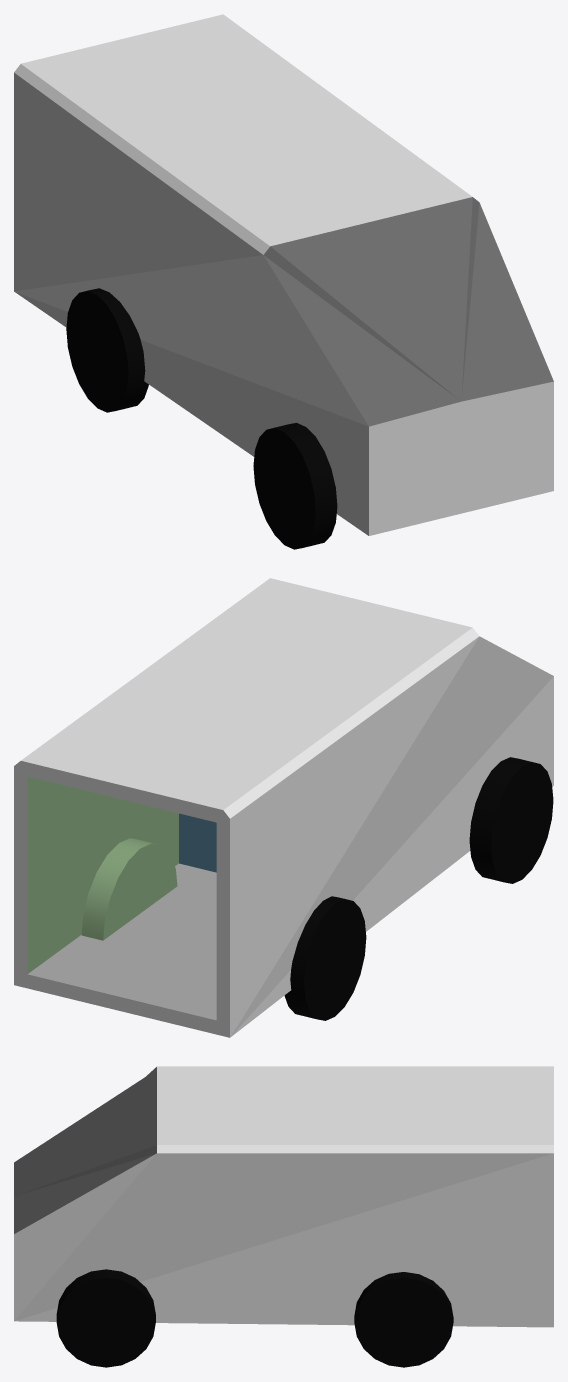
File: Van1.0.fbx
3 views of the same model, one above another, from view 1: azimuth 30°, elevation 25°; view 2: azimuth 150°, elevation 25°; view 3: azimuth 270°, elevation 25° (orthographic). The views are drawn at different scales.
Parts seen in each view (by area): view 1: pCube1, pCylinder2, pCylinder4; view 2: pCube1, pCylinder2, pCylinder4, WheelHub; view 3: pCube1, pCylinder1, pCylinder5.
Boxes of the visible parts, bbox=[...] form: pCube1: bbox=[14, 14, 553, 535]; pCylinder2: bbox=[253, 423, 337, 549]; pCylinder4: bbox=[66, 288, 148, 412]; pCube1: bbox=[14, 578, 553, 1037]; pCylinder2: bbox=[469, 757, 553, 883]; pCylinder4: bbox=[284, 896, 366, 1020]; WheelHub: bbox=[81, 838, 177, 940]; pCube1: bbox=[14, 1066, 553, 1327]; pCylinder1: bbox=[56, 1269, 155, 1367]; pCylinder5: bbox=[354, 1272, 453, 1367].
Bounding box in the file's own units: 2.2 × 2.4 × 5.44.
